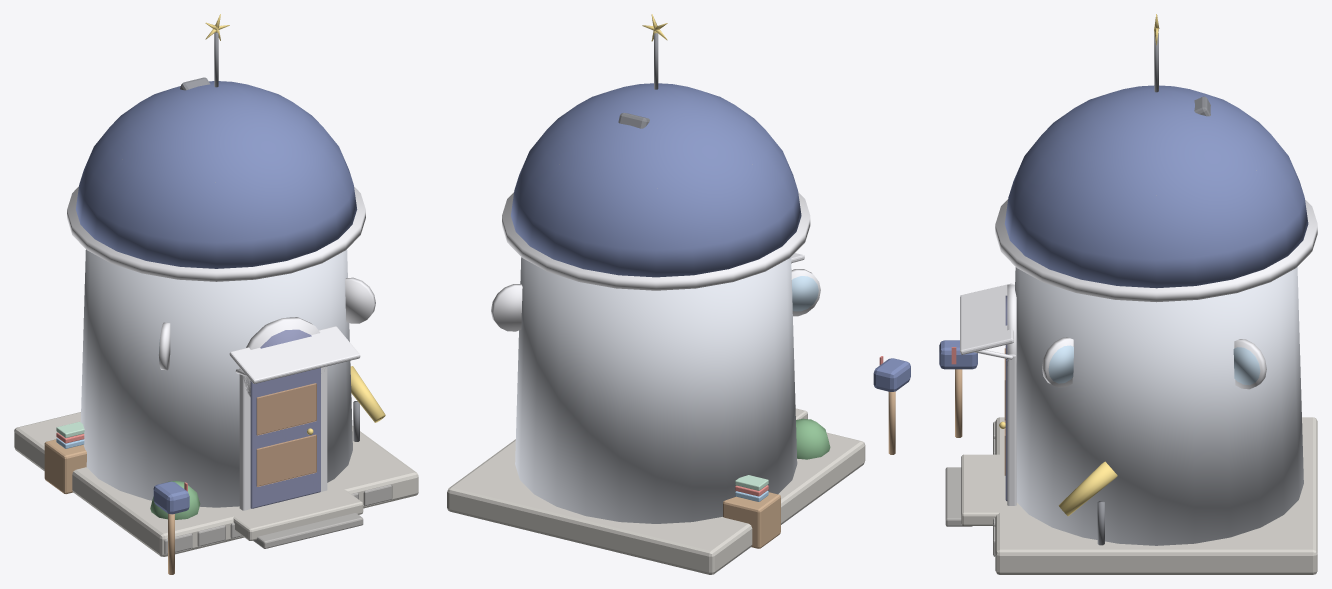
The model's file is casa_otavio.glb.
3 renders of one model, left to right at view 1: azimuth 30°, elevation 25°; view 2: azimuth 150°, elevation 25°; view 3: azimuth 270°, elevation 25°, orthographic. The views are drawn at different scales.
Parts seen in each view (by area): view 1: casa_otavio; view 2: casa_otavio; view 3: casa_otavio.
Part boxes in pixels (bbox=[...]): casa_otavio: bbox=[14, 14, 418, 574]; casa_otavio: bbox=[447, 14, 910, 574]; casa_otavio: bbox=[939, 14, 1317, 574].
Size of the model in its own units: 3.75 by 5.92 by 4.11.
